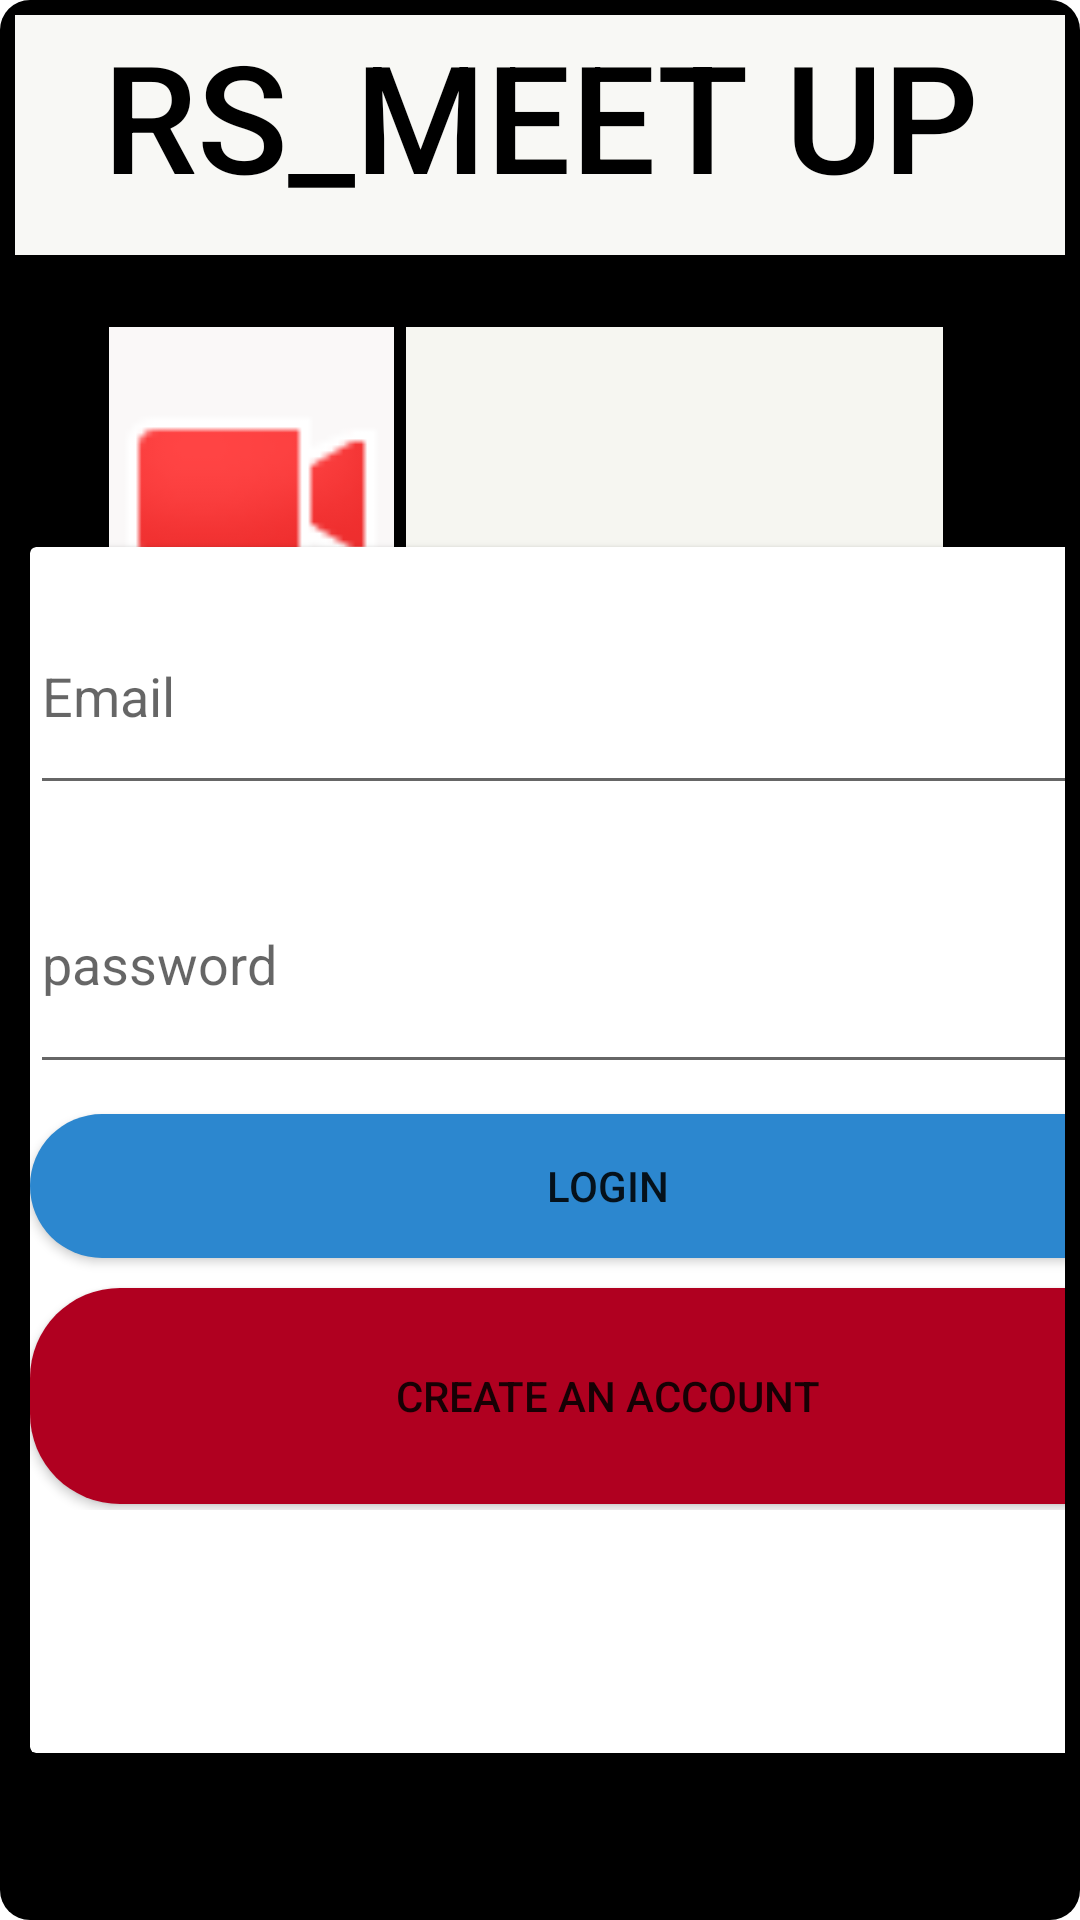

Icon click points for this 1080 x 1920 phone screenshot, format [x,y]:
presence video busy: [251,487]
